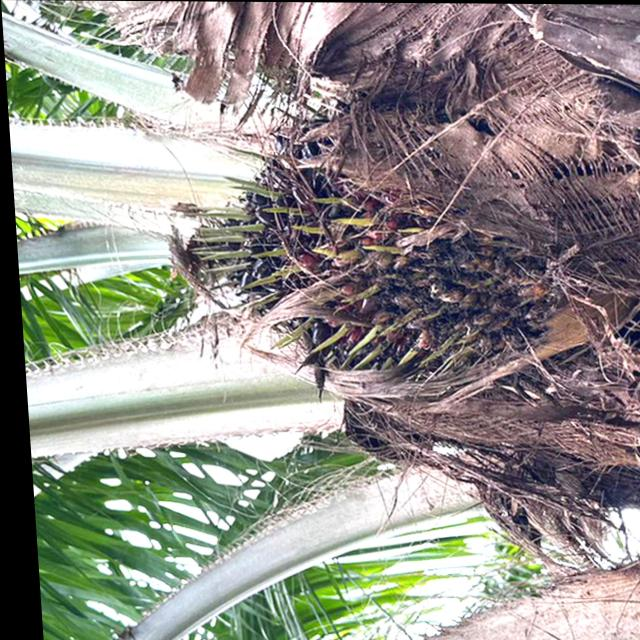unripe: (173, 141, 602, 383)
